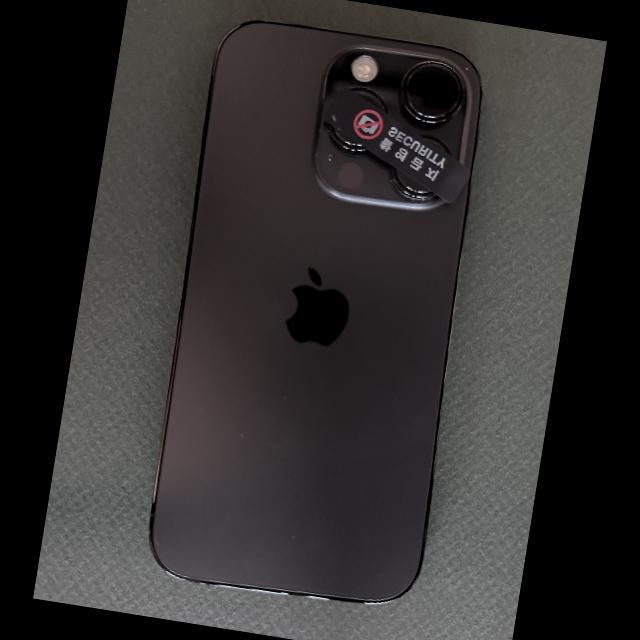lens: (399, 60, 462, 124), (390, 166, 436, 200), (326, 124, 365, 151)
phone: (149, 18, 483, 605)
sticker: (324, 88, 471, 204)
